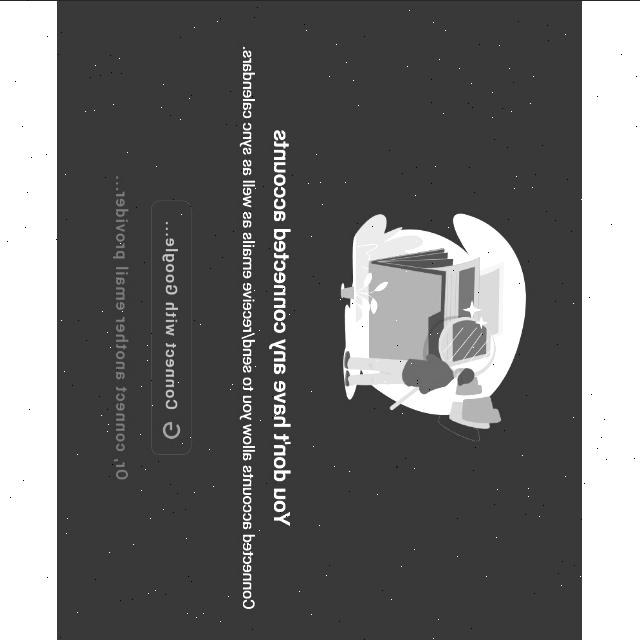QLabel: (240, 42, 258, 610), (270, 130, 292, 528), (113, 175, 129, 481), (162, 220, 180, 408)
VBtn: (150, 199, 193, 455)
VIcon: (163, 420, 180, 438)
VImg: (338, 204, 528, 440)
